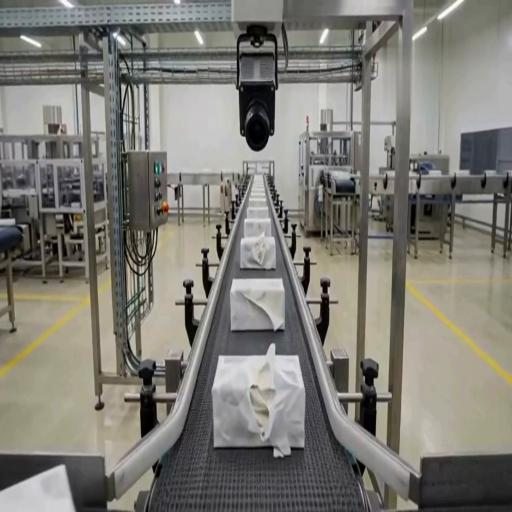defective: (212, 345, 304, 454), (229, 280, 286, 332), (239, 232, 277, 270)
good: (1, 464, 79, 511), (244, 217, 272, 239), (245, 206, 270, 220)
